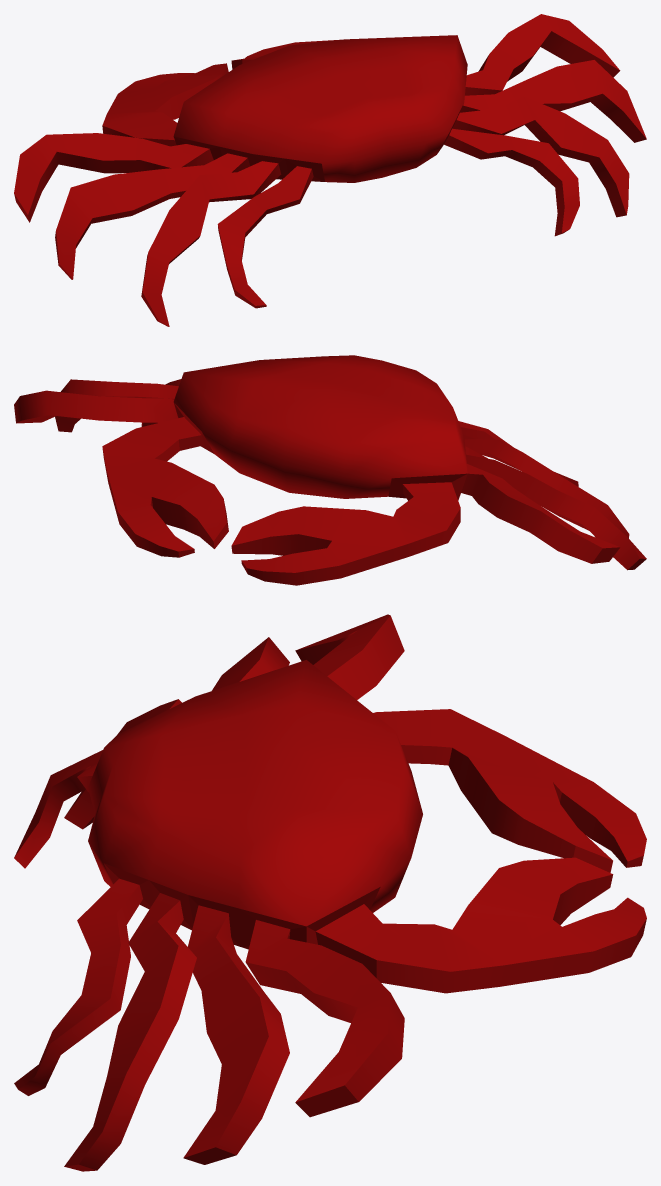
Rendered from crab.fbx.
3 renders of one model, top to bottom at view 1: azimuth 30°, elevation 25°; view 2: azimuth 150°, elevation 25°; view 3: azimuth 270°, elevation 25°, orthographic. The views are drawn at different scales.
Visible parts, largest first — view 1: pCube3; view 2: pCube3; view 3: pCube3.
Boxes of the visible parts, x1,y1,x2,y2 form: pCube3: [14, 14, 646, 326]; pCube3: [14, 355, 646, 585]; pCube3: [14, 614, 646, 1171].
Size of the model in its own units: 7.26 by 1.9 by 4.3.
